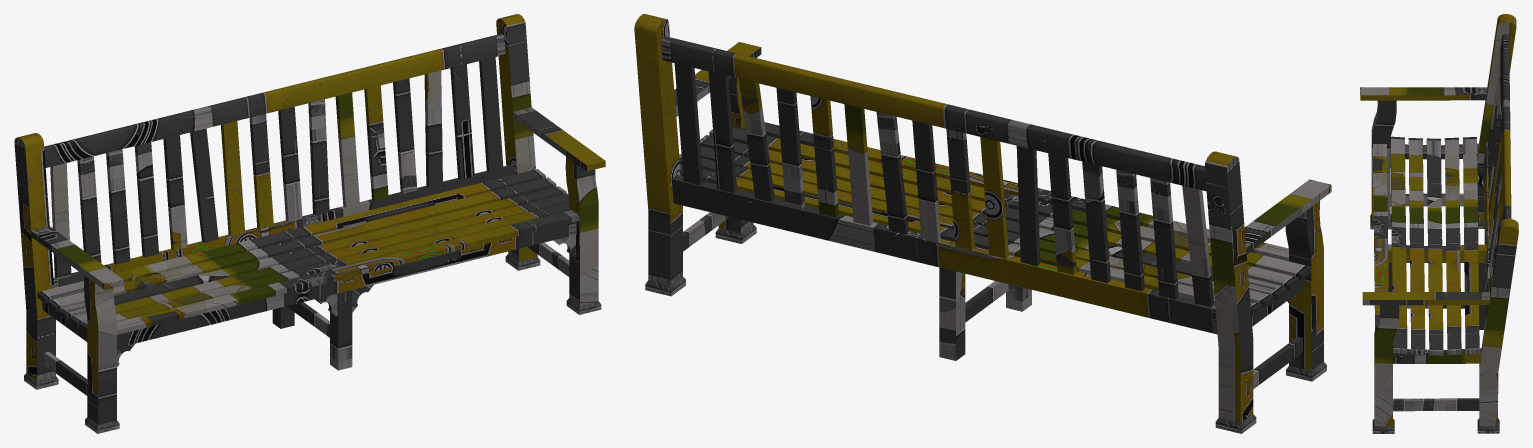
Rendered from bench.obj.
3 renders of one model, left to right at view 1: azimuth 30°, elevation 25°; view 2: azimuth 150°, elevation 25°; view 3: azimuth 270°, elevation 25°, orthographic. The views are drawn at different scales.
Visible parts, largest first — view 1: Bench_Bench_Mat_0; view 2: Bench_Bench_Mat_0; view 3: Bench_Bench_Mat_0.
Boxes of the visible parts, x1,y1,x2,y2 form: Bench_Bench_Mat_0: (14,14,605,433); Bench_Bench_Mat_0: (634,14,1331,433); Bench_Bench_Mat_0: (1360,14,1518,433).
Bounding box in the file's own units: 126 × 56.69 × 39.49.
